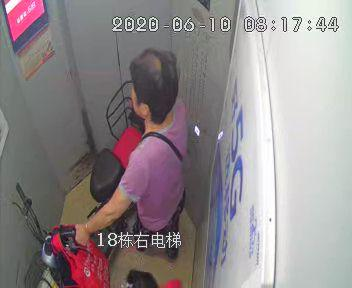Electric-bicycle: (8, 75, 151, 286)
